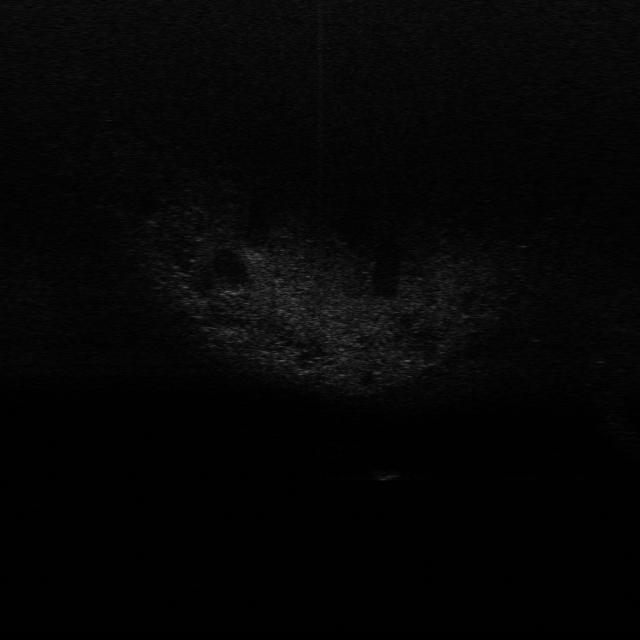cube: (368, 467, 401, 482)
